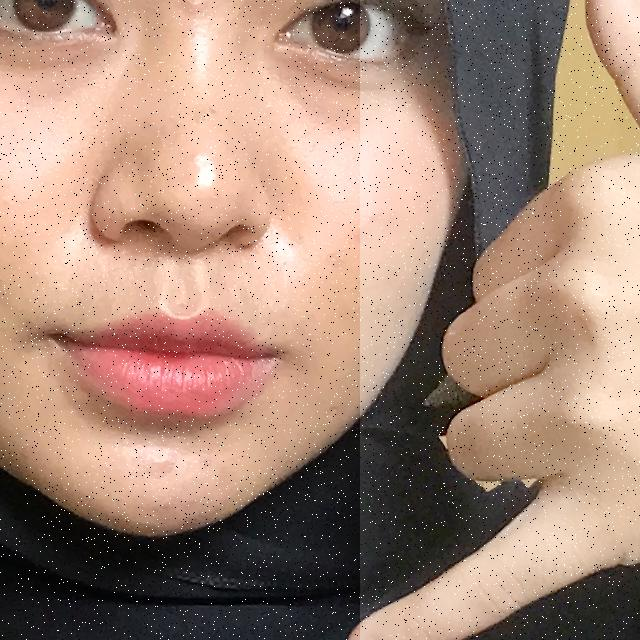telpon: (360, 0, 640, 640)
